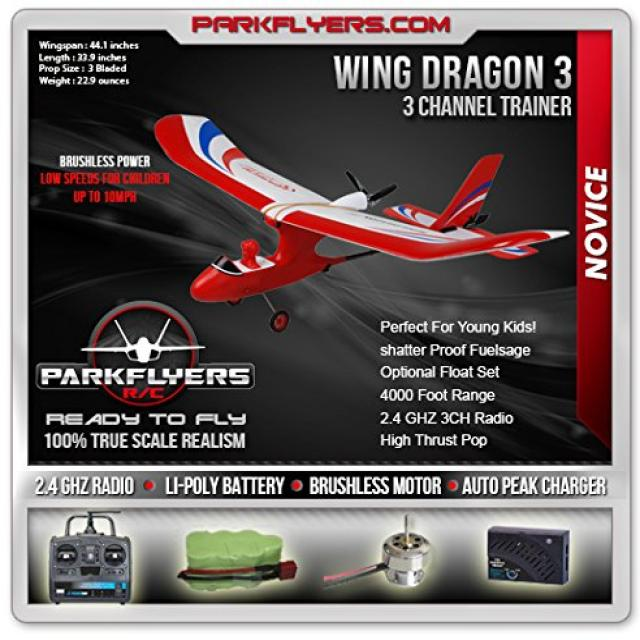iha: (152, 102, 570, 333)
